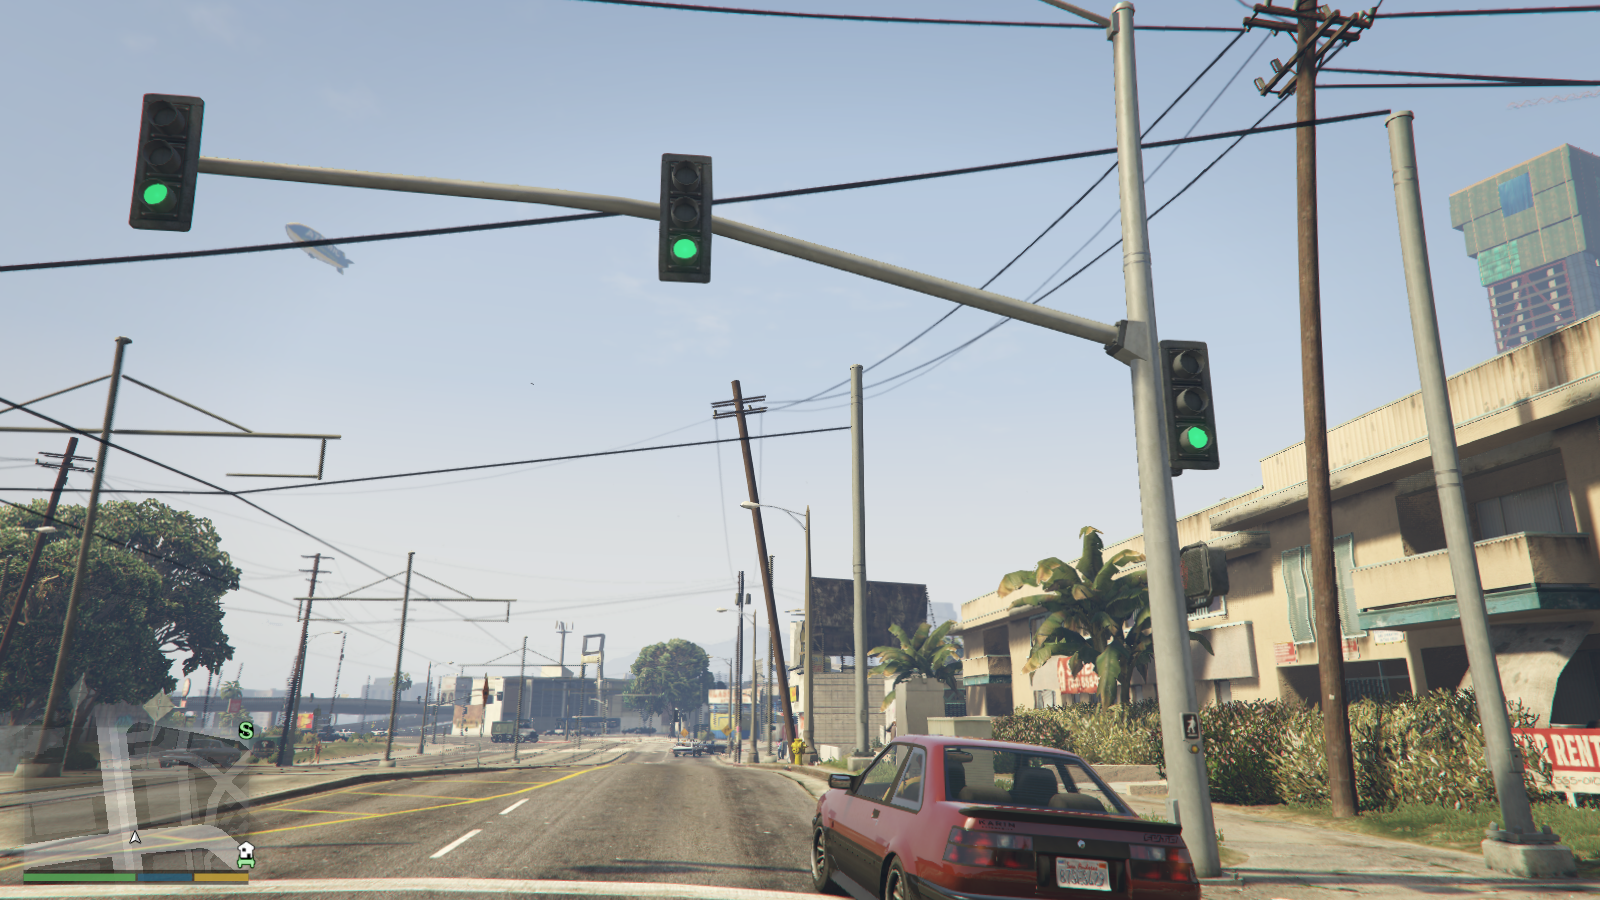green: (121, 90, 210, 234), (652, 151, 716, 289), (1158, 338, 1221, 475)
